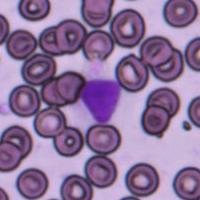L: (76, 78, 123, 127)
